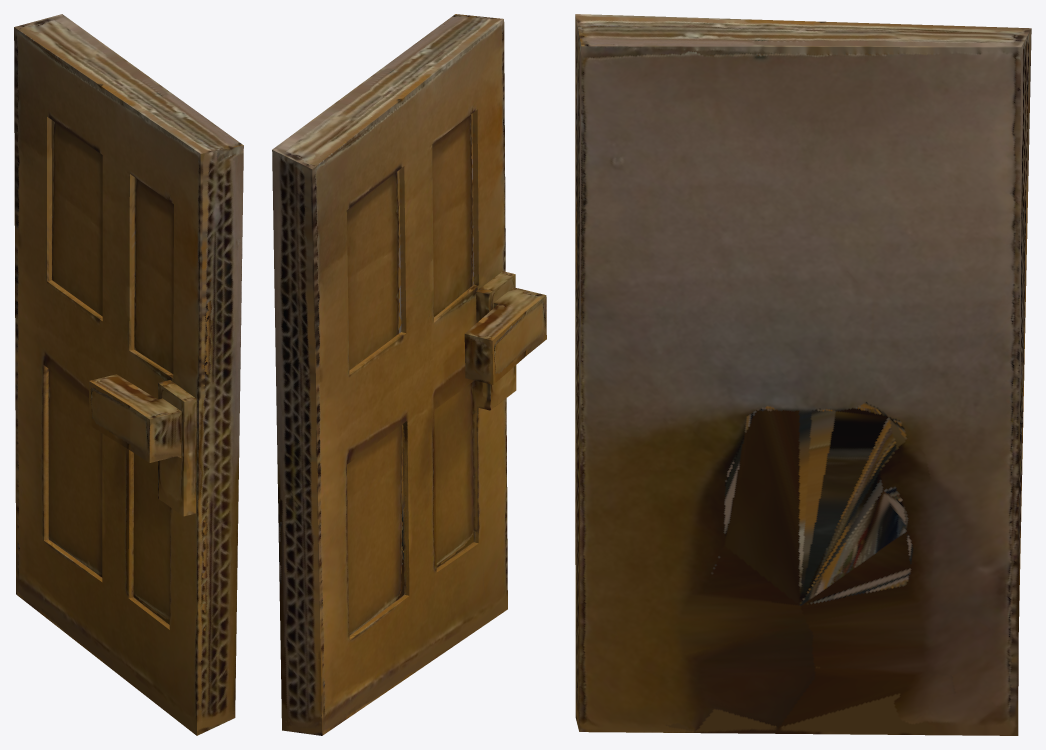
Rendered from Door.fbx.
The picture shows the model from 3 angles, left to right: view 1: azimuth 30°, elevation 25°; view 2: azimuth 150°, elevation 25°; view 3: azimuth 270°, elevation 25°; orthographic projection. The views are drawn at different scales.
Parts seen in each view (by area): view 1: Cube; view 2: Cube; view 3: Cube.
Boxes of the visible parts, left/top/right/bottom form: Cube: left=14, top=14, right=243, bottom=735; Cube: left=272, top=14, right=546, bottom=735; Cube: left=575, top=14, right=1031, bottom=735.
Size of the model in its own units: 10.54 by 60.95 by 35.73.
